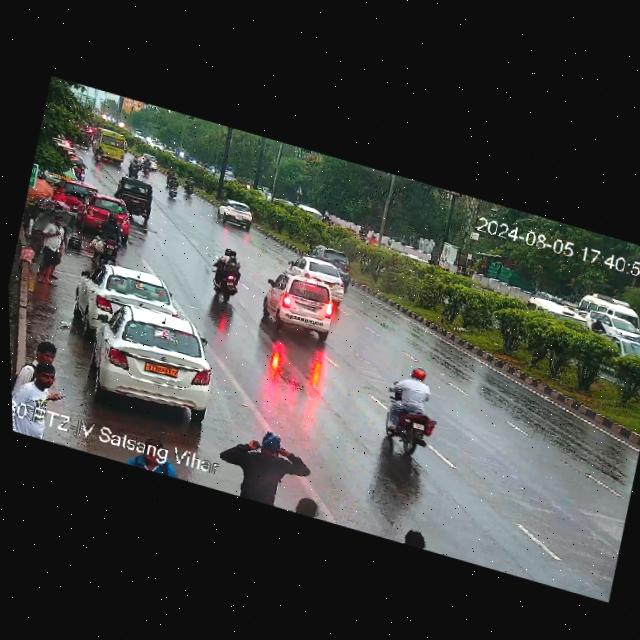bus: (89, 125, 135, 165)
car: (80, 291, 223, 421), (76, 254, 186, 342), (254, 266, 343, 347), (73, 184, 140, 236), (111, 173, 164, 219), (526, 294, 589, 332), (584, 308, 640, 345), (290, 253, 347, 288), (214, 196, 259, 231), (601, 329, 640, 369), (293, 202, 328, 228), (180, 173, 198, 199), (139, 152, 162, 172)
motorcycle: (371, 357, 456, 458), (200, 242, 253, 308), (88, 207, 128, 262), (314, 245, 359, 289), (162, 172, 182, 200), (125, 154, 144, 177), (354, 223, 371, 244)
person: (215, 416, 304, 510), (10, 341, 73, 444), (30, 210, 75, 288)
